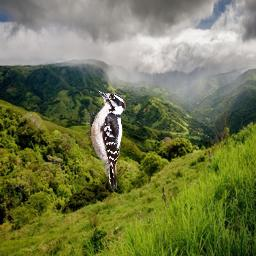Woodpecker: (86, 90, 126, 192)
